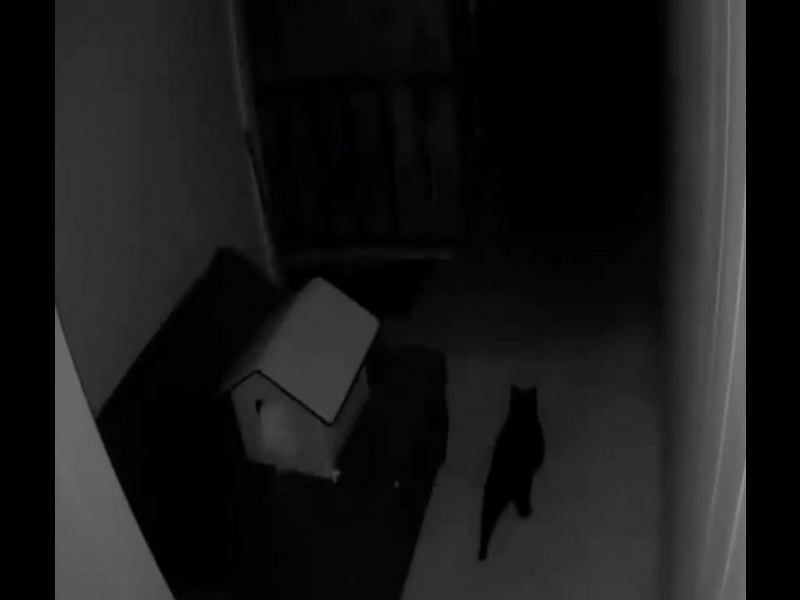cat: (471, 382, 550, 572)
